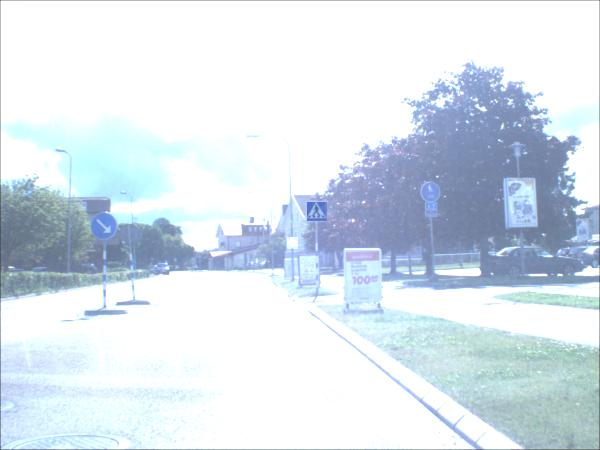PASS_RIGHT_SIDE: (92, 214, 120, 242)
PEDESTRIAN_CROSSING: (308, 203, 329, 223)
PRIORITY_ROAD: (288, 238, 300, 251)
